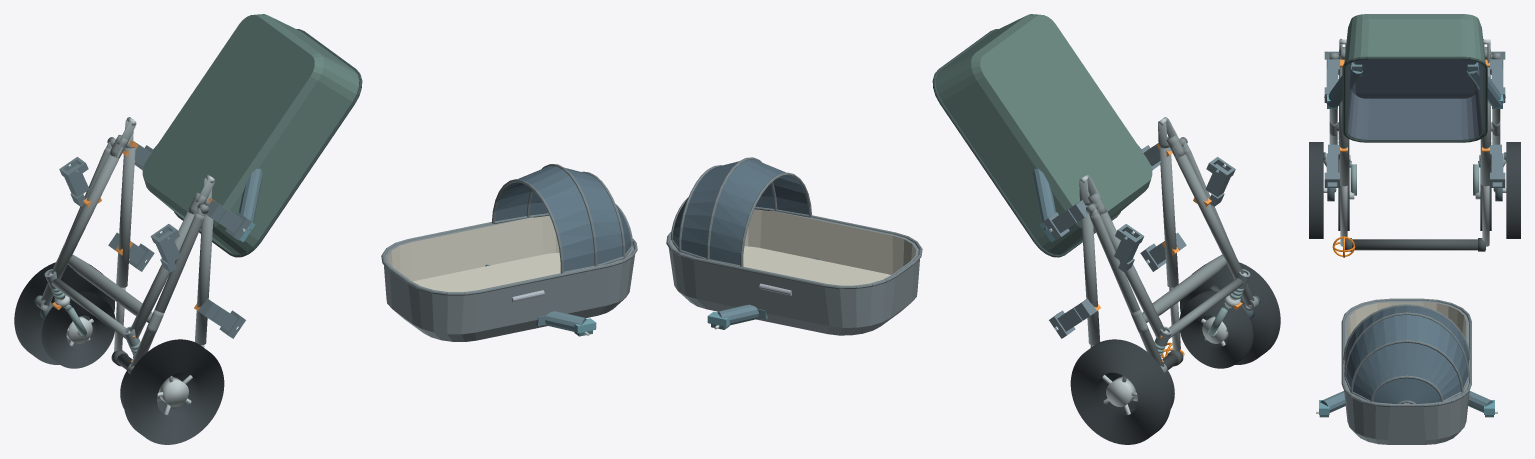
The model's file is D09_w550_state3_wheel_M.glb.
3 renders of one model, left to right at view 1: azimuth 30°, elevation 25°; view 2: azimuth 150°, elevation 25°; view 3: azimuth 270°, elevation 25°, orthographic. The views are drawn at different scales.
Parts seen in each view (by area): view 1: D09_Upper, D09_Lower, RL_tire.004, FR_tire.004, RR_tire.004, main_upper_1.005, main_lower_1.005, V46_rear_leg_-1.005, main_upper_-1.005, V46_rearbar.005, main_lower_-1.005, D09_Upper_Mount_H (+8 smaller); view 2: D09_Upper, D09_Lower, RR_tire.004, FL_tire.004, RL_tire.004, main_upper_-1.005, main_lower_-1.005, V46_rear_leg_1.005, main_upper_1.005, V46_rearbar.005, main_lower_1.005, D09_Upper_Mount_H (+8 smaller); view 3: D09_Lower, D09_Upper, round_handle.004, RL_tire.004, RR_tire.004, D09_Lower_Mount_M, D09_Upper_Mount_H, main_upper_1.005, main_upper_-1.005, Universal_Cabin_Receiver_H_1, Universal_Cabin_Receiver_H_-1, handle_slider_1.004 (+6 smaller).
Part boxes in pixels (box(x1,y1,x2,y2)): D09_Upper: box(381, 164, 637, 341); D09_Lower: box(142, 14, 362, 257); RL_tire.004: box(123, 339, 224, 444); FR_tire.004: box(41, 291, 115, 368); RR_tire.004: box(14, 262, 114, 364); main_upper_1.005: box(116, 147, 135, 287); main_lower_1.005: box(51, 147, 122, 279); V46_rear_leg_-1.005: box(130, 213, 204, 366); main_upper_-1.005: box(194, 205, 213, 345); V46_rearbar.005: box(68, 254, 152, 322); main_lower_-1.005: box(129, 210, 197, 338); D09_Upper_Mount_H: box(485, 264, 596, 336); D09_Upper: box(666, 157, 922, 335); D09_Lower: box(932, 14, 1152, 257); RR_tire.004: box(1070, 339, 1171, 444); FL_tire.004: box(1179, 291, 1253, 368); RL_tire.004: box(1180, 262, 1280, 364); main_upper_-1.005: box(1159, 147, 1178, 287); main_lower_-1.005: box(1172, 147, 1243, 278); V46_rear_leg_1.005: box(1090, 213, 1164, 366); main_upper_1.005: box(1081, 205, 1100, 345); V46_rearbar.005: box(1142, 254, 1226, 322); main_lower_1.005: box(1097, 210, 1165, 338); D09_Upper_Mount_H: box(707, 258, 818, 329); D09_Lower: box(1342, 14, 1487, 142); D09_Upper: box(1341, 298, 1471, 444); round_handle.004: box(1352, 239, 1485, 250); RL_tire.004: box(1309, 142, 1323, 238); RR_tire.004: box(1506, 142, 1520, 238); D09_Lower_Mount_M: box(1324, 62, 1505, 108); D09_Upper_Mount_H: box(1316, 391, 1497, 417); main_upper_1.005: box(1480, 67, 1490, 186); main_upper_-1.005: box(1339, 67, 1349, 186); Universal_Cabin_Receiver_H_1: box(1490, 144, 1505, 187); Universal_Cabin_Receiver_H_-1: box(1324, 144, 1339, 187); handle_slider_1.004: box(1482, 185, 1489, 246).
Bounding box in the file's own units: 1.76 × 1.02 × 0.656.
